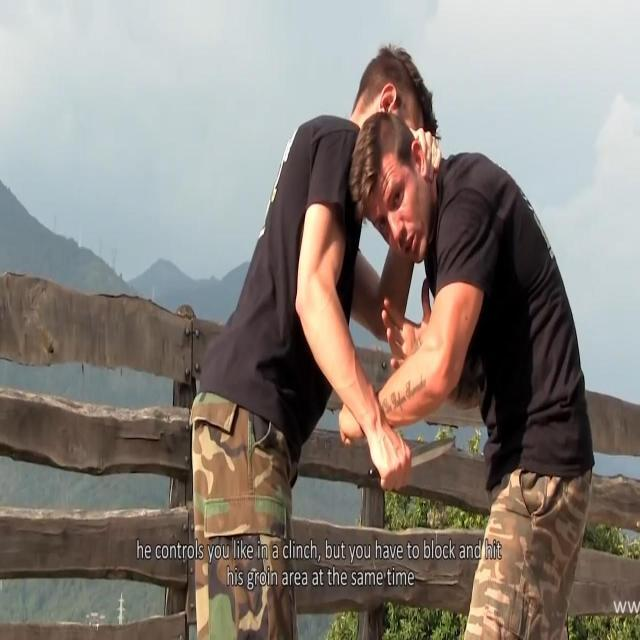Knife: (366, 426, 460, 494)
